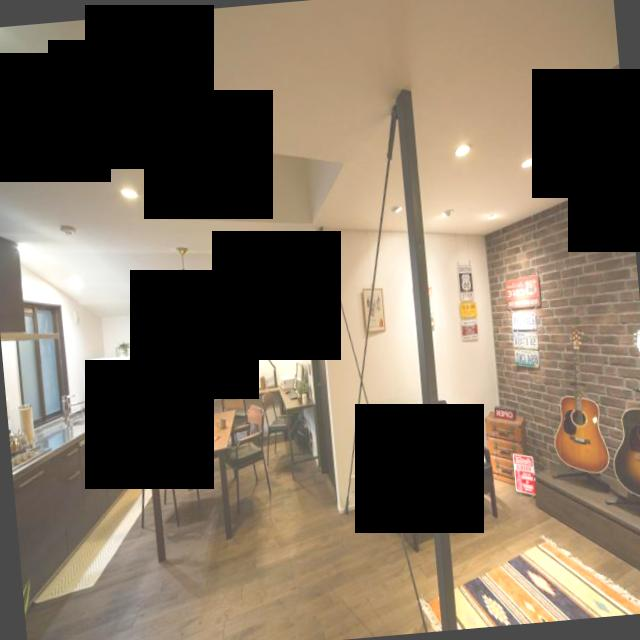vintage chair: (376, 391, 494, 554), (129, 418, 185, 531), (220, 403, 275, 512)
vintage desk: (144, 406, 249, 564)
